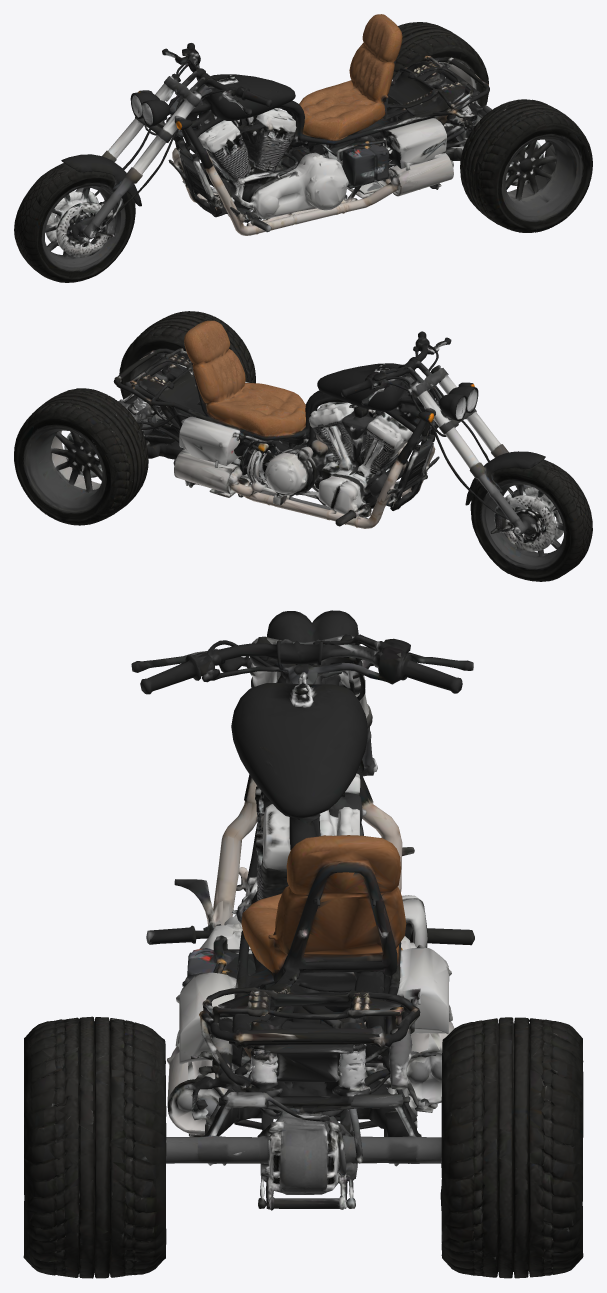
The model's file is juno_trike.glb.
3 renders of one model, top to bottom at view 1: azimuth 30°, elevation 25°; view 2: azimuth 150°, elevation 25°; view 3: azimuth 270°, elevation 25°, orthographic. The views are drawn at different scales.
Visible parts, largest first — view 1: Mesh_0; view 2: Mesh_0; view 3: Mesh_0.
Boxes of the visible parts, x1,y1,x2,y2 form: Mesh_0: (14, 14, 592, 282); Mesh_0: (14, 311, 592, 581); Mesh_0: (23, 610, 583, 1278).
Bounding box in the file's own units: 1.9 × 0.6612 × 0.9115.
Materials: 1 (1 with a texture image).
